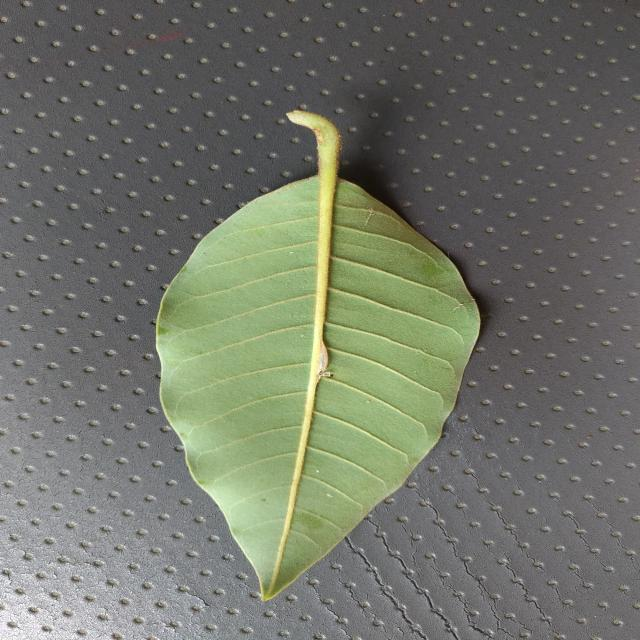coffee: (156, 111, 480, 600)
